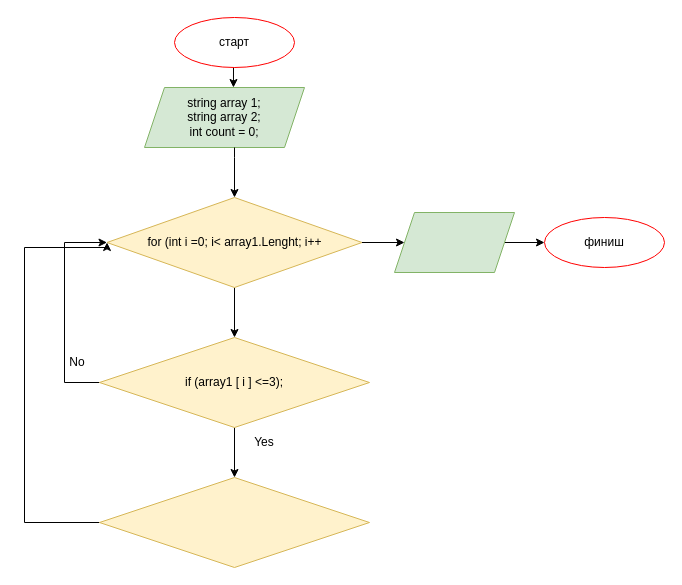
This 682x585 diagram has some shape labels left out. Here are the shapes that lost their labels. From the top down, the centre of each, then its label:
the point at 454,242: print array2
the point at 234,522: array2 [count] =array1[ i ]; count++;
